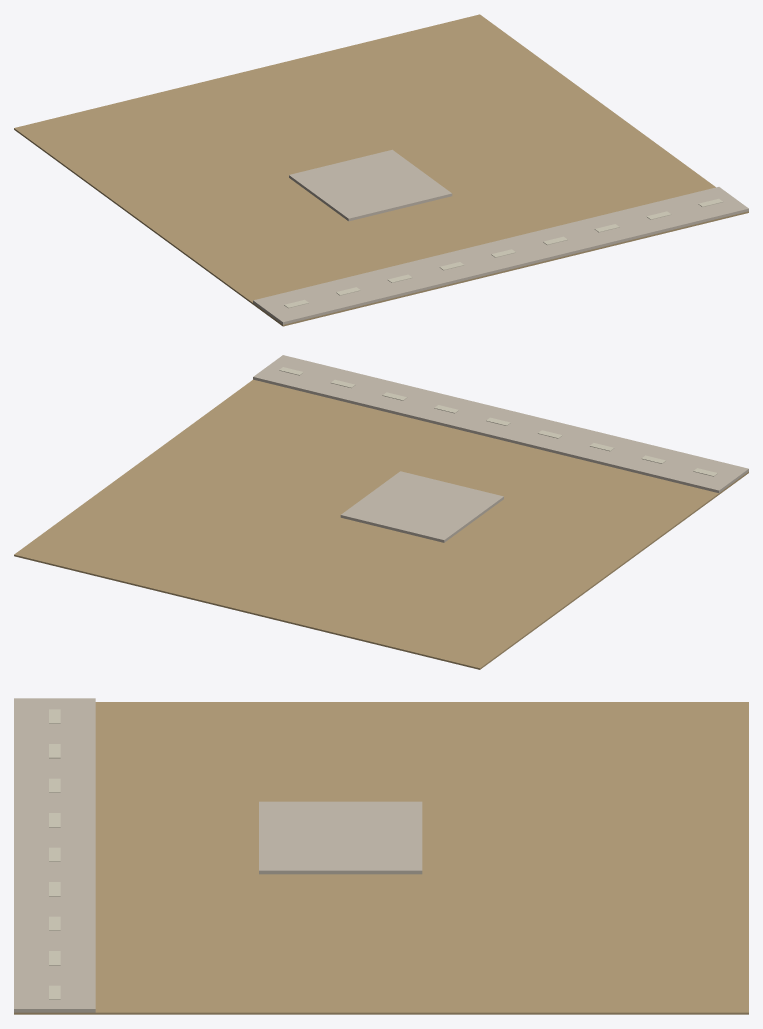
Rendered from stage_01.glb.
3 renders of one model, top to bottom at view 1: azimuth 30°, elevation 25°; view 2: azimuth 150°, elevation 25°; view 3: azimuth 270°, elevation 25°, orthographic. The views are drawn at different scales.
Parts seen in each view (by area): view 1: geometry_0; view 2: geometry_0; view 3: geometry_0.
Part boxes in pixels (left/top/right/bottom): geometry_0: left=14, top=14, right=748, bottom=326; geometry_0: left=14, top=355, right=748, bottom=669; geometry_0: left=14, top=698, right=748, bottom=1014.
Size of the model in its own units: 9 by 0.091 by 9.
